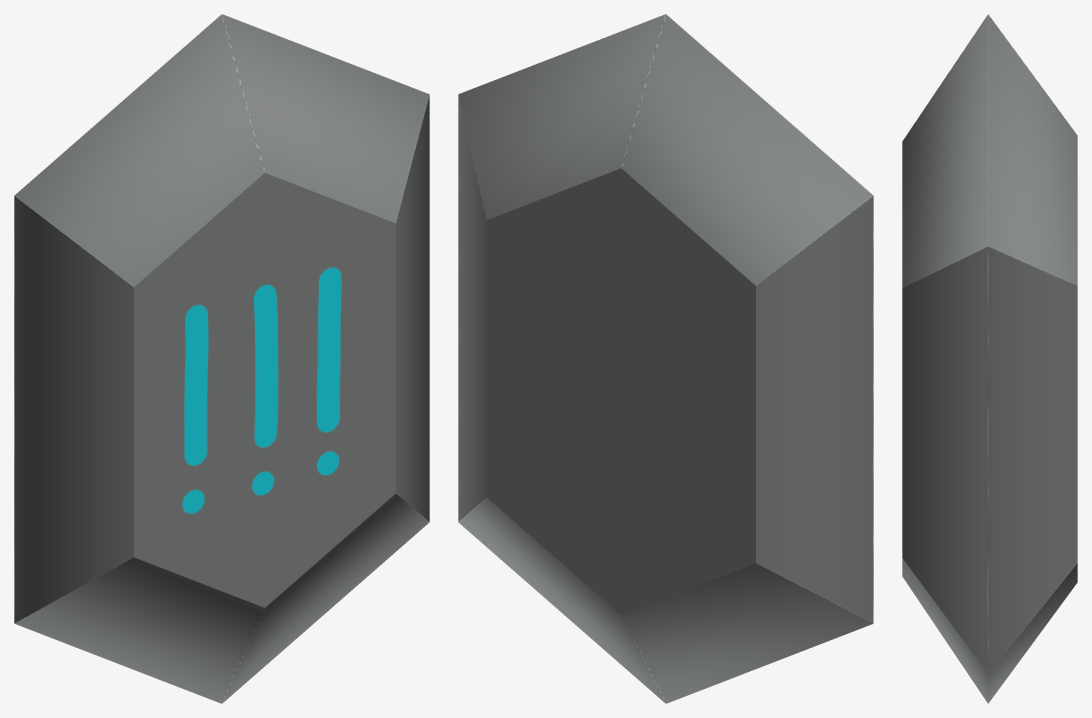
The model's file is pattern_b1.fbx.
The picture shows the model from 3 angles, left to right: view 1: azimuth 30°, elevation 25°; view 2: azimuth 150°, elevation 25°; view 3: azimuth 270°, elevation 25°; orthographic projection.
Parts seen in each view (by area): view 1: pattern_b1_GEO; view 2: pattern_b1_GEO; view 3: pattern_b1_GEO.
Part boxes in pixels (x1,y1,x2,y2): pattern_b1_GEO: (14, 14, 429, 703); pattern_b1_GEO: (458, 14, 873, 703); pattern_b1_GEO: (902, 14, 1077, 703).
Size of the model in its own units: 1.41 by 2.24 by 0.5148.
